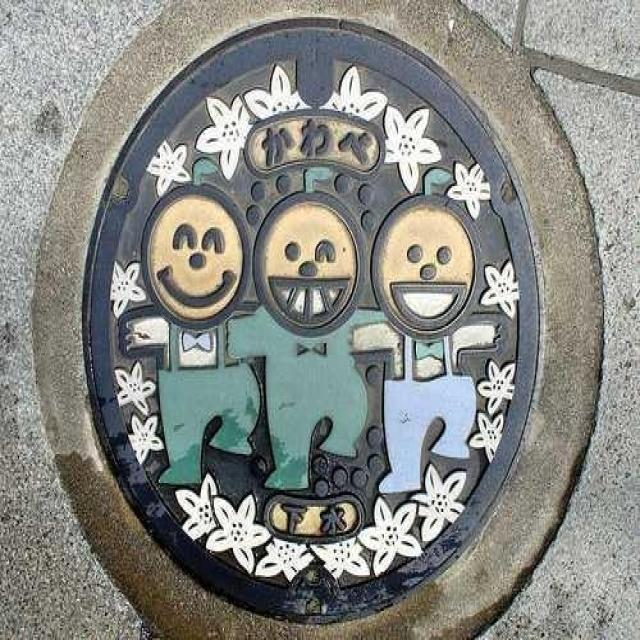manhole: (35, 3, 601, 635)
